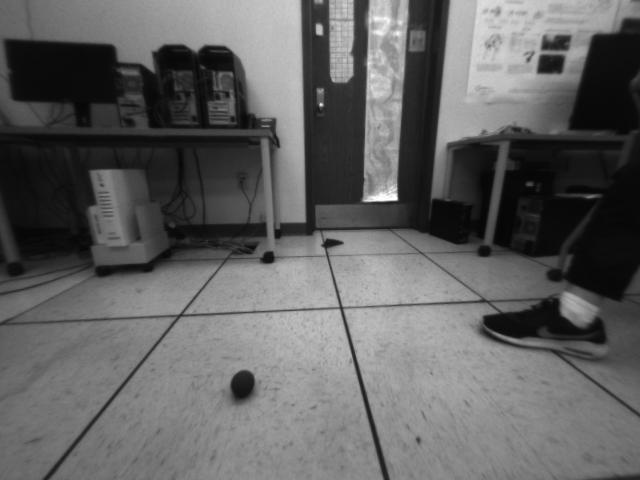dogtoy: (221, 363, 263, 409)
